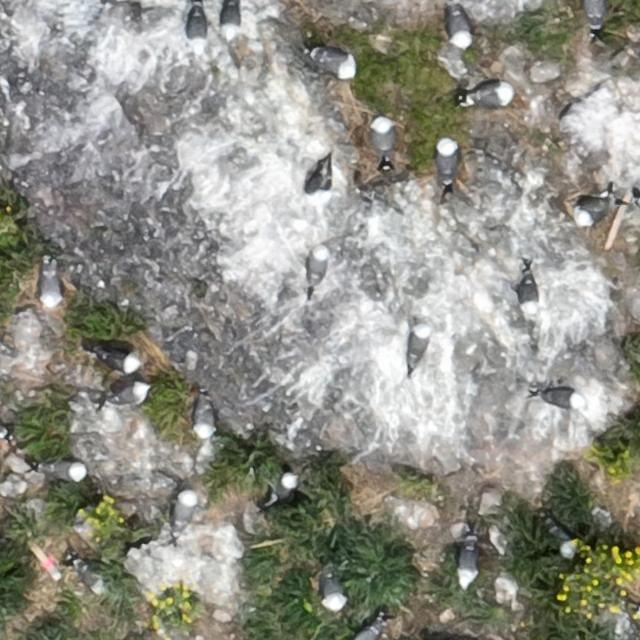umineko: (536, 384, 588, 412), (185, 5, 212, 58), (310, 158, 338, 209), (192, 393, 218, 440), (316, 52, 357, 77), (469, 84, 511, 107), (371, 117, 393, 157), (97, 352, 138, 373), (408, 323, 428, 366), (110, 384, 148, 406), (459, 543, 479, 584), (576, 197, 610, 221), (548, 525, 574, 556), (45, 461, 85, 481), (42, 268, 62, 306), (438, 142, 458, 180), (323, 576, 345, 609), (271, 472, 296, 501), (451, 12, 472, 46), (308, 247, 327, 284), (519, 276, 537, 313), (176, 491, 194, 525), (584, 2, 604, 29), (223, 3, 239, 36), (356, 622, 381, 640)
